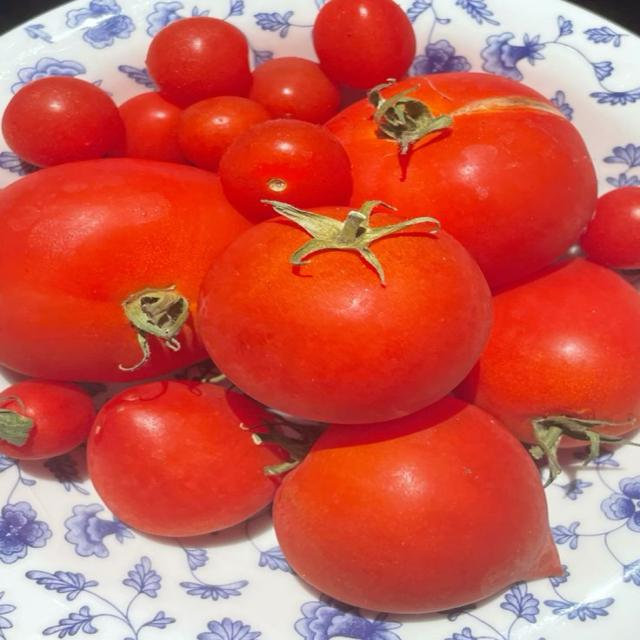tomato: (197, 207, 491, 423), (274, 397, 561, 613), (327, 73, 596, 288), (0, 159, 248, 380), (456, 259, 639, 455), (87, 380, 286, 536), (220, 119, 352, 222), (2, 76, 124, 167), (147, 16, 251, 108), (313, 0, 415, 88), (0, 380, 95, 459), (178, 96, 270, 170), (250, 57, 340, 123), (580, 186, 640, 269), (120, 92, 186, 163)
